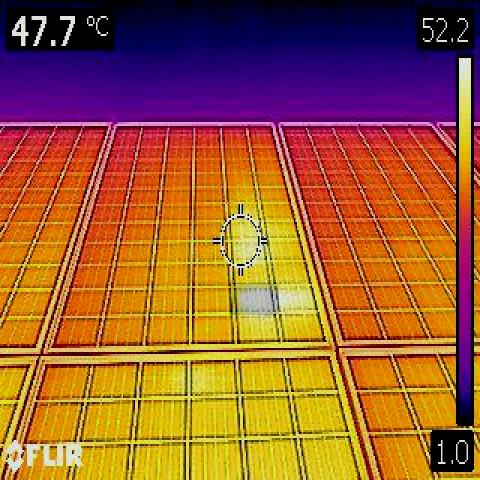fault: (229, 283, 279, 315)
